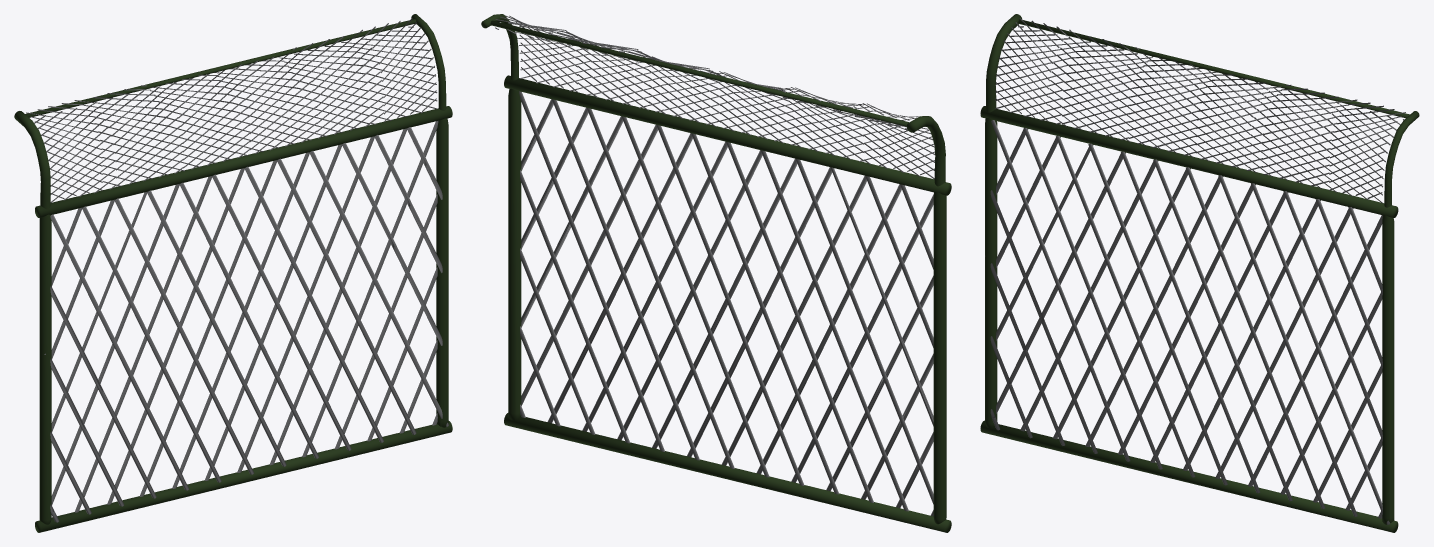
The model's file is Fence.fbx.
3 renders of one model, left to right at view 1: azimuth 30°, elevation 25°; view 2: azimuth 150°, elevation 25°; view 3: azimuth 330°, elevation 25°, orthographic. The views are drawn at different scales.
Visible parts, largest first — view 1: Cylinder.001, Fence Structure; view 2: Cylinder.001, Fence Structure; view 3: Cylinder.001, Fence Structure.
Part boxes in pixels (x1,y1,x2,y2): Cylinder.001: (26,18,448,522); Fence Structure: (14,14,452,532); Cylinder.001: (495,15,934,516); Fence Structure: (481,14,951,532); Cylinder.001: (985,18,1405,524); Fence Structure: (980,14,1419,532).
Size of the model in its own units: 406 by 377 by 53.36.
